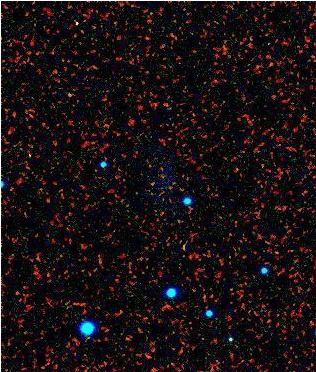star: (52, 80, 82, 110)
